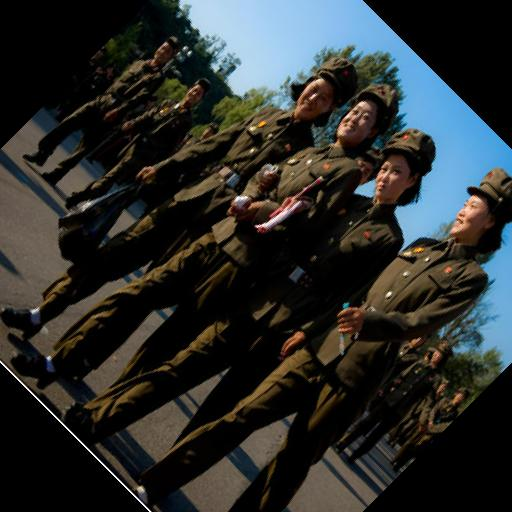north army: (79, 34, 498, 480)
